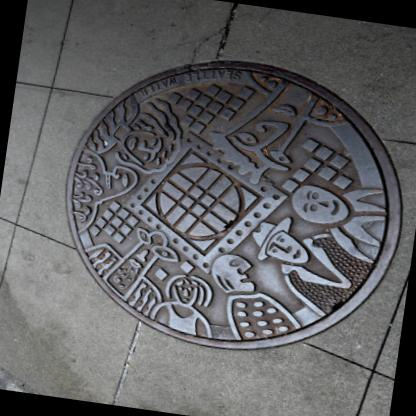manholes: (20, 34, 416, 381)
